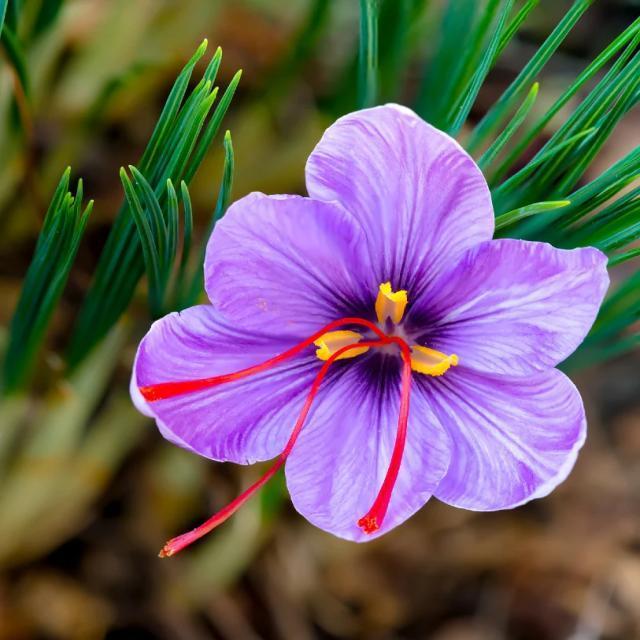Flower: (216, 148, 552, 532)
stigma: (140, 399, 351, 556), (134, 320, 416, 396), (358, 329, 422, 539)
